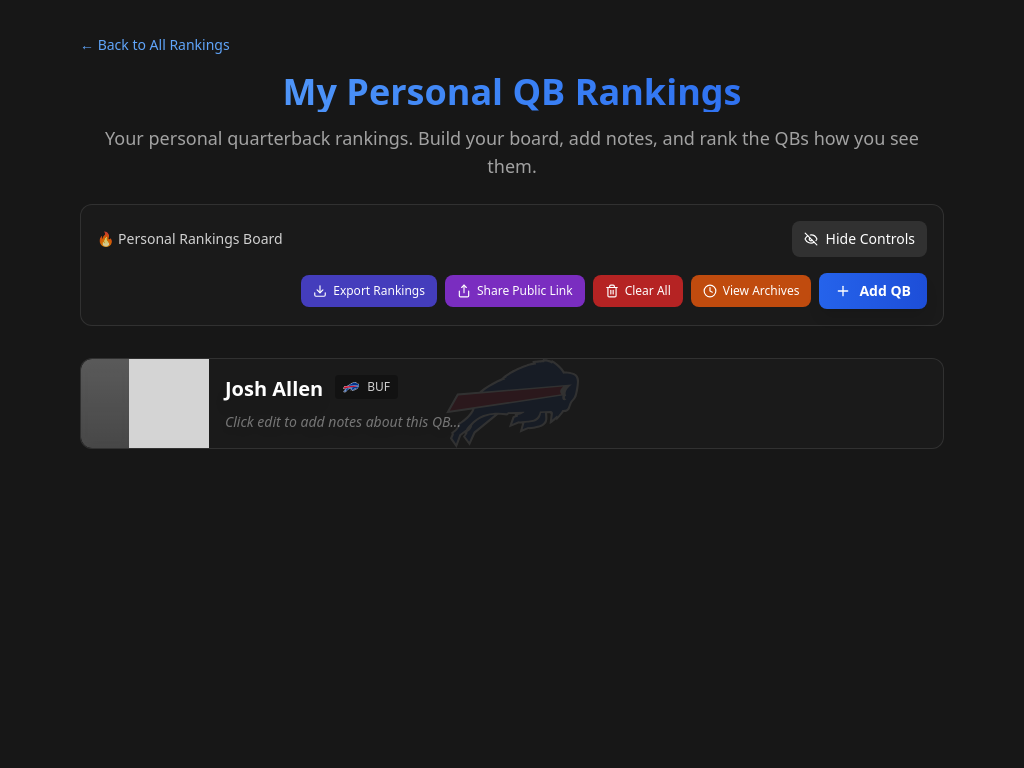
Test: Personal rankings Clear All › asks in an in-app dialog and clears only on confirm
Expected: the text "No QBs ranked yet" is not shown
Click the text "Clear All".
click(648, 291)  # box [625,283,671,299]
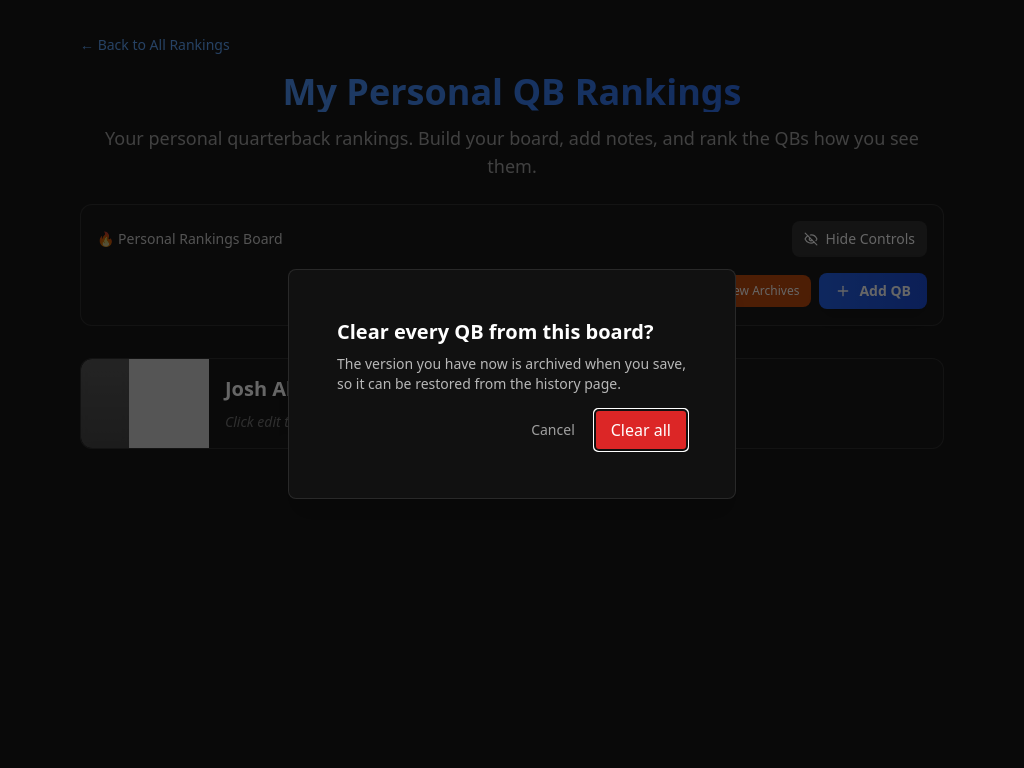
Click the button "Cancel".
click(553, 430)  # box [519,410,587,450]
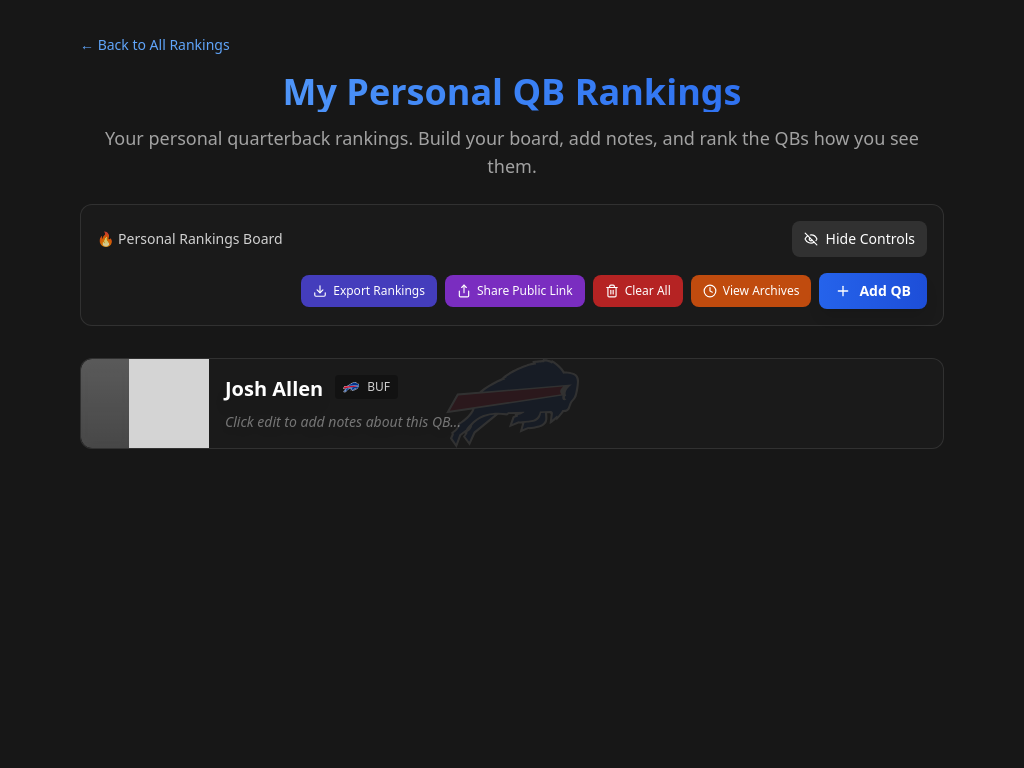
Expected: the text "No QBs ranked yet" is not shown
Click the text "Clear All".
click(648, 291)  # box [625,283,671,299]
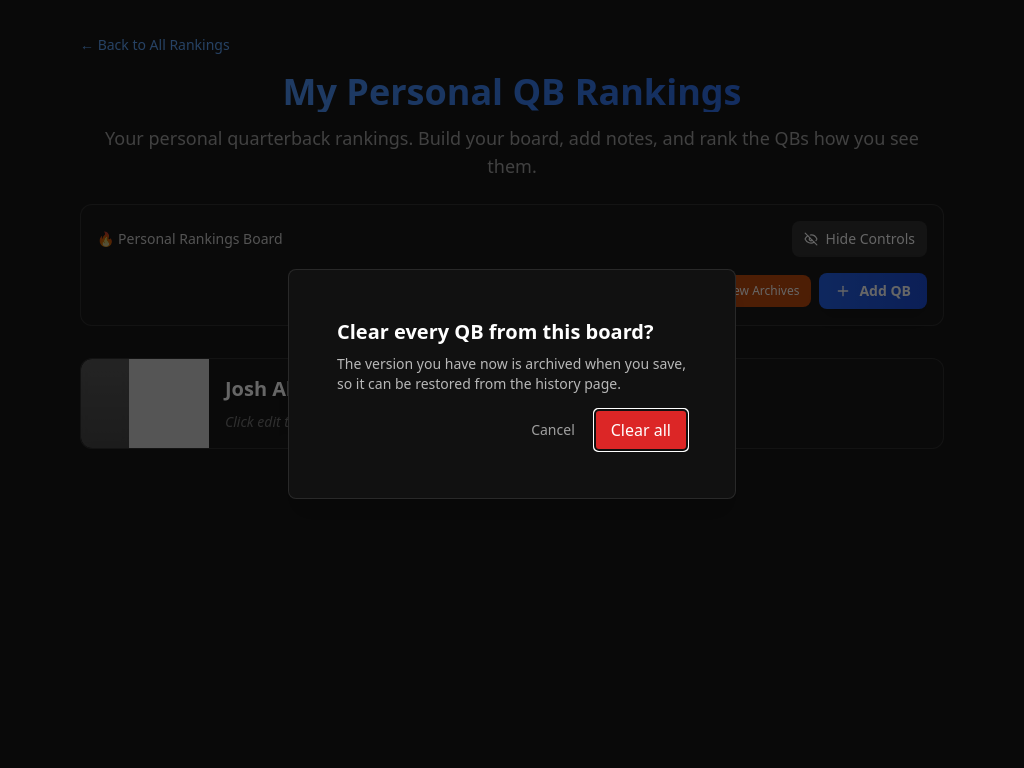
Click the button "Clear all".
click(641, 430)  # box [595,410,687,450]
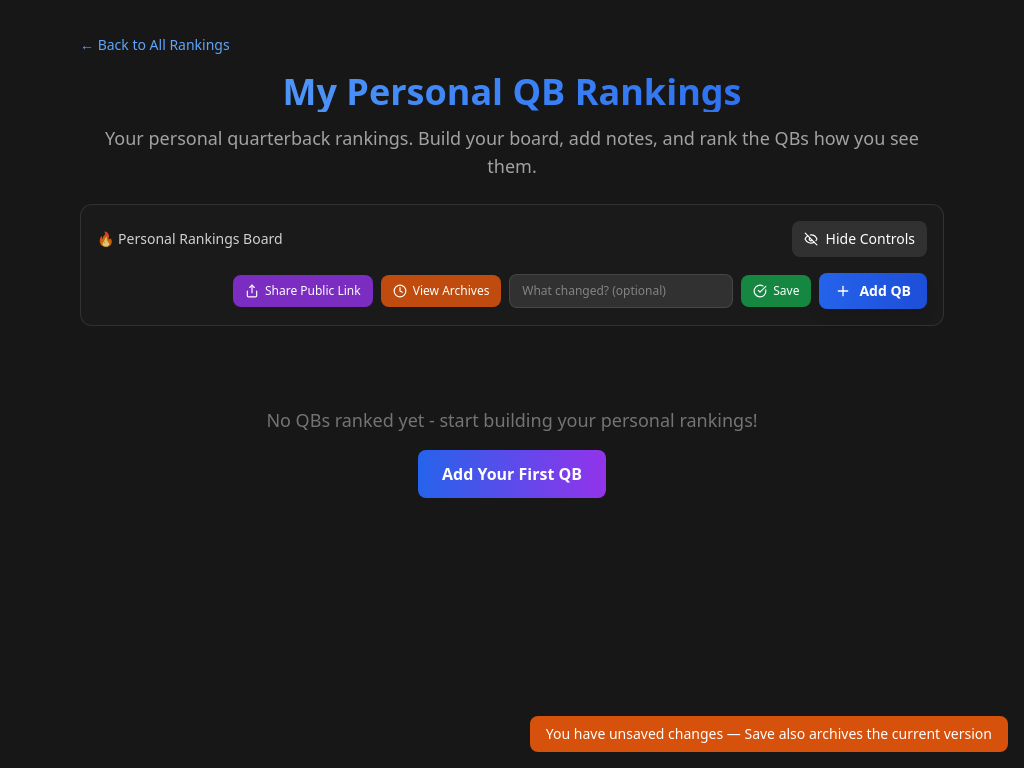
Expected: the text "No QBs ranked yet - start building your personal rankings!" is shown, [266,408,758,432]
